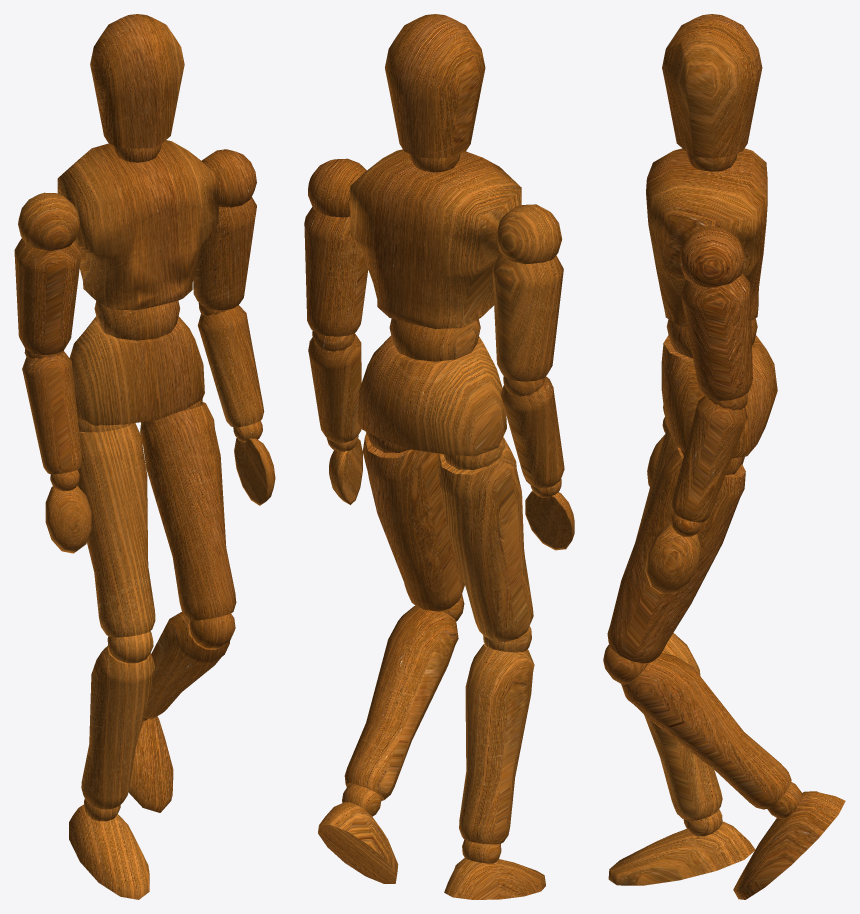
The model's file is dummy_obj_7.obj.
The picture shows the model from 3 angles, left to right: view 1: azimuth 30°, elevation 25°; view 2: azimuth 150°, elevation 25°; view 3: azimuth 270°, elevation 25°; orthographic projection. The views are drawn at different scales.
Visible parts, largest first — view 1: dummy_hips3_dummy_belly_dummy_torso, dummy_hips3_dummy_rpelvis_dummy_rupleg, dummy_hips3_dummy_lpelvis_dummy_lupleg, dummy_hips3, dummy_hips3_dummy_belly_dummy_torso_dummy_neck_dummy_headq, dummy_hips3_dummy_lpelvis_dummy_lupleg_dummy_lknee_dummy_lleg, dummy_hips3_dummy_belly_dummy_torso_dummy_lshoulder_dummy_larm, dummy_hips3_dummy_belly_dummy_torso_dummy_lshoulder_dummy_l.000, dummy_hips3_dummy_belly_dummy_torso_dummy_rshoulder_dummy_r.001, dummy_hips3_dummy_belly_dummy_torso_dummy_rshoulder_dummy_rarm, dummy_hips3_dummy_lpelvis_dummy_lupleg_dummy_lknee_dummy_ll.000, dummy_hips3_dummy_rpelvis_dummy_rupleg_dummy_rknee_dummy_rleg (+9 smaller); view 2: dummy_hips3_dummy_belly_dummy_torso, dummy_hips3, dummy_hips3_dummy_lpelvis_dummy_lupleg, dummy_hips3_dummy_belly_dummy_torso_dummy_neck_dummy_headq, dummy_hips3_dummy_lpelvis_dummy_lupleg_dummy_lknee_dummy_lleg, dummy_hips3_dummy_rpelvis_dummy_rupleg_dummy_rknee_dummy_rleg, dummy_hips3_dummy_rpelvis_dummy_rupleg, dummy_hips3_dummy_belly_dummy_torso_dummy_lshoulder_dummy_larm, dummy_hips3_dummy_belly_dummy_torso_dummy_rshoulder_dummy_rarm, dummy_hips3_dummy_belly_dummy_torso_dummy_lshoulder_dummy_l.000, dummy_hips3_dummy_belly_dummy_torso_dummy_rshoulder_dummy_r.001, dummy_hips3_dummy_rpelvis_dummy_rupleg_dummy_rknee_dummy_rleg_d (+13 smaller); view 3: dummy_hips3_dummy_belly_dummy_torso, dummy_hips3_dummy_belly_dummy_torso_dummy_neck_dummy_headq, dummy_hips3_dummy_rpelvis_dummy_rupleg_dummy_rknee_dummy_rleg, dummy_hips3_dummy_rpelvis_dummy_rupleg, dummy_hips3_dummy_belly_dummy_torso_dummy_rshoulder_dummy_rarm, dummy_hips3, dummy_hips3_dummy_belly_dummy_torso_dummy_rshoulder_dummy_r.001, dummy_hips3_dummy_lpelvis_dummy_lupleg_dummy_lknee_dummy_ll.000, dummy_hips3_dummy_rpelvis_dummy_rupleg_dummy_rknee_dummy_rleg_d, dummy_hips3_dummy_lpelvis_dummy_lupleg_dummy_lknee_dummy_lleg, dummy_hips3_dummy_belly_dummy_torso_dummy_rshoulder, dummy_hips3_dummy_belly_dummy_torso_dummy_rshoulder_dummy_r.002 (+6 smaller).
Boxes of the visible parts, box(x1,y1,x2,y2) form: dummy_hips3_dummy_belly_dummy_torso: box(57, 140, 218, 310); dummy_hips3_dummy_rpelvis_dummy_rupleg: box(140, 402, 236, 620); dummy_hips3_dummy_lpelvis_dummy_lupleg: box(77, 423, 155, 637); dummy_hips3: box(69, 316, 204, 425); dummy_hips3_dummy_belly_dummy_torso_dummy_neck_dummy_headq: box(90, 14, 184, 148); dummy_hips3_dummy_lpelvis_dummy_lupleg_dummy_lknee_dummy_lleg: box(81, 646, 155, 809); dummy_hips3_dummy_belly_dummy_torso_dummy_lshoulder_dummy_larm: box(14, 238, 81, 355); dummy_hips3_dummy_belly_dummy_torso_dummy_lshoulder_dummy_l.000: box(22, 351, 82, 474); dummy_hips3_dummy_belly_dummy_torso_dummy_rshoulder_dummy_r.001: box(197, 305, 264, 427); dummy_hips3_dummy_belly_dummy_torso_dummy_rshoulder_dummy_rarm: box(193, 197, 256, 310); dummy_hips3_dummy_lpelvis_dummy_lupleg_dummy_lknee_dummy_ll.000: box(69, 804, 149, 899); dummy_hips3_dummy_rpelvis_dummy_rupleg_dummy_rknee_dummy_rleg: box(144, 612, 229, 718); dummy_hips3_dummy_belly_dummy_torso: box(350, 149, 521, 328); dummy_hips3: box(357, 335, 506, 456); dummy_hips3_dummy_lpelvis_dummy_lupleg: box(437, 437, 533, 641); dummy_hips3_dummy_belly_dummy_torso_dummy_neck_dummy_headq: box(385, 14, 485, 158); dummy_hips3_dummy_lpelvis_dummy_lupleg_dummy_lknee_dummy_lleg: box(459, 644, 534, 844); dummy_hips3_dummy_rpelvis_dummy_rupleg_dummy_rknee_dummy_rleg: box(344, 605, 458, 800); dummy_hips3_dummy_rpelvis_dummy_rupleg: box(362, 433, 464, 611); dummy_hips3_dummy_belly_dummy_torso_dummy_lshoulder_dummy_larm: box(492, 253, 563, 381); dummy_hips3_dummy_belly_dummy_torso_dummy_rshoulder_dummy_rarm: box(304, 207, 368, 336); dummy_hips3_dummy_belly_dummy_torso_dummy_lshoulder_dummy_l.000: box(500, 376, 564, 488); dummy_hips3_dummy_belly_dummy_torso_dummy_rshoulder_dummy_r.001: box(308, 334, 361, 442); dummy_hips3_dummy_rpelvis_dummy_rupleg_dummy_rknee_dummy_rleg_d: box(318, 802, 398, 883); dummy_hips3_dummy_belly_dummy_torso: box(646, 148, 767, 326); dummy_hips3_dummy_belly_dummy_torso_dummy_neck_dummy_headq: box(662, 14, 762, 158); dummy_hips3_dummy_rpelvis_dummy_rupleg_dummy_rknee_dummy_rleg: box(621, 653, 791, 809); dummy_hips3_dummy_rpelvis_dummy_rupleg: box(607, 447, 745, 663); dummy_hips3_dummy_belly_dummy_torso_dummy_rshoulder_dummy_rarm: box(680, 273, 752, 400); dummy_hips3: box(661, 335, 777, 458); dummy_hips3_dummy_belly_dummy_torso_dummy_rshoulder_dummy_r.001: box(671, 396, 747, 522); dummy_hips3_dummy_lpelvis_dummy_lupleg_dummy_lknee_dummy_ll.000: box(608, 821, 755, 885); dummy_hips3_dummy_rpelvis_dummy_rupleg_dummy_rknee_dummy_rleg_d: box(733, 791, 845, 899); dummy_hips3_dummy_lpelvis_dummy_lupleg_dummy_lknee_dummy_lleg: box(644, 633, 722, 820); dummy_hips3_dummy_belly_dummy_torso_dummy_rshoulder: box(679, 226, 744, 287); dummy_hips3_dummy_belly_dummy_torso_dummy_rshoulder_dummy_r.002: box(645, 523, 700, 594).
Size of the model in its own units: 52.56 by 179 by 44.42.
1 material, 1 textured.
